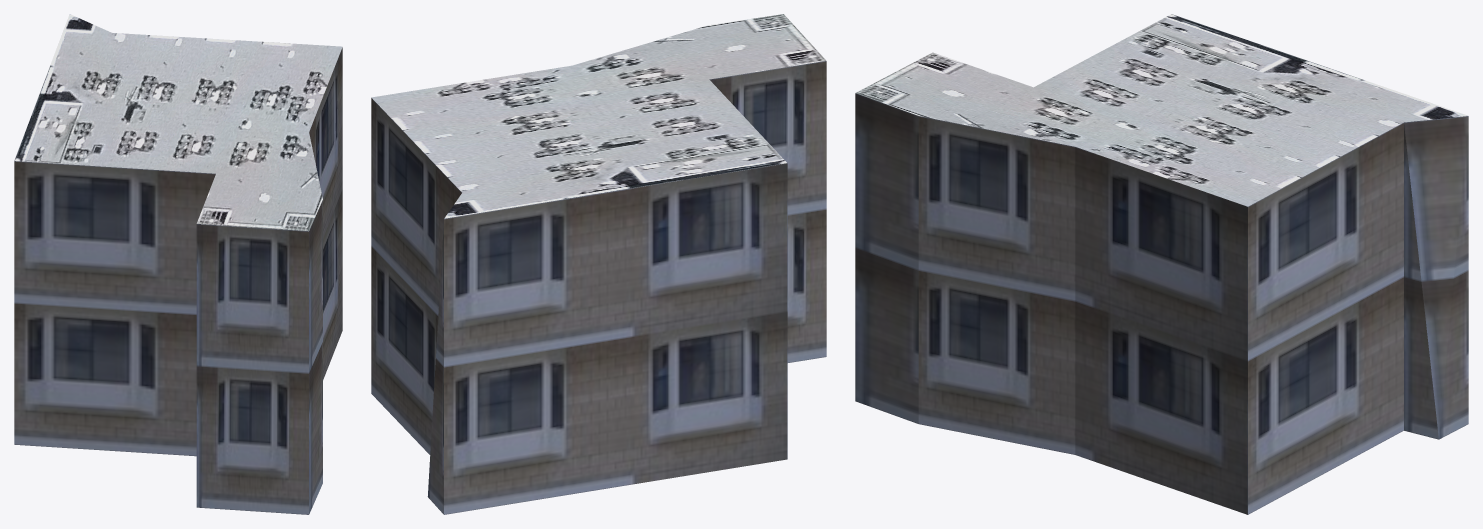
The model's file is ResTex__3443.fbx.
3 views of the same model, side by side, from view 1: azimuth 30°, elevation 25°; view 2: azimuth 150°, elevation 25°; view 3: azimuth 270°, elevation 25° (orthographic). The views are drawn at different scales.
Visible parts, largest first — view 1: CityEngineMaterial_3_m, CityEngineMaterial_4_m; view 2: CityEngineMaterial_3_m, CityEngineMaterial_4_m; view 3: CityEngineMaterial_3_m, CityEngineMaterial_4_m.
Boxes of the visible parts, x1,y1,x2,y2 form: CityEngineMaterial_3_m: [14, 47, 342, 514]; CityEngineMaterial_4_m: [14, 14, 342, 231]; CityEngineMaterial_3_m: [371, 61, 826, 514]; CityEngineMaterial_4_m: [371, 14, 826, 218]; CityEngineMaterial_3_m: [855, 93, 1468, 514]; CityEngineMaterial_4_m: [855, 14, 1467, 206].
Size of the model in its own units: 8.05 by 6 by 10.82.
Materials: 2 (2 with a texture image).
